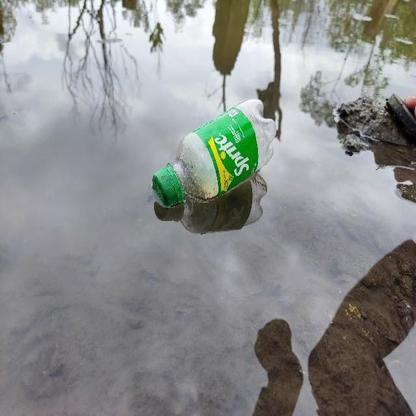plastic bottle: (153, 98, 276, 206)
